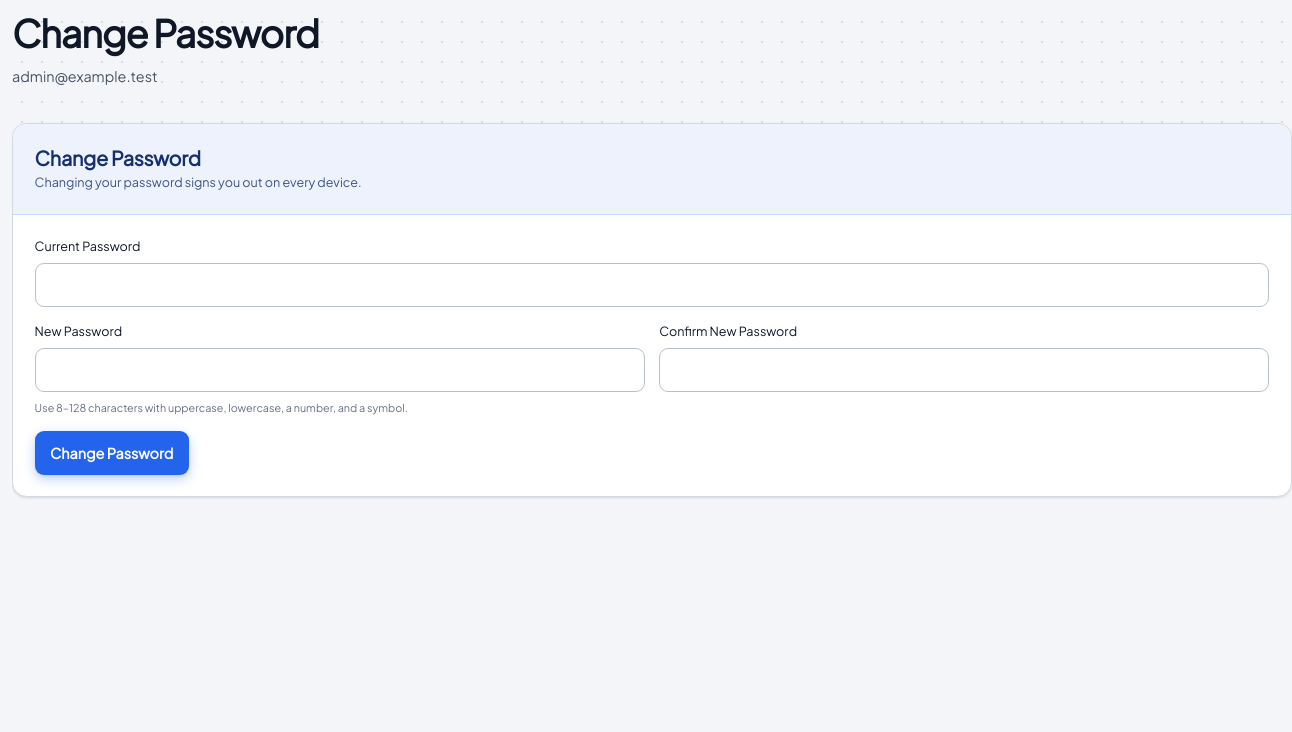
Scenario: Account password form › blocks mismatched confirmation and focuses the error
Type "old synthetic passphrase" into the password field labelled "Current Password" at (652, 285), box [35, 263, 1269, 307]
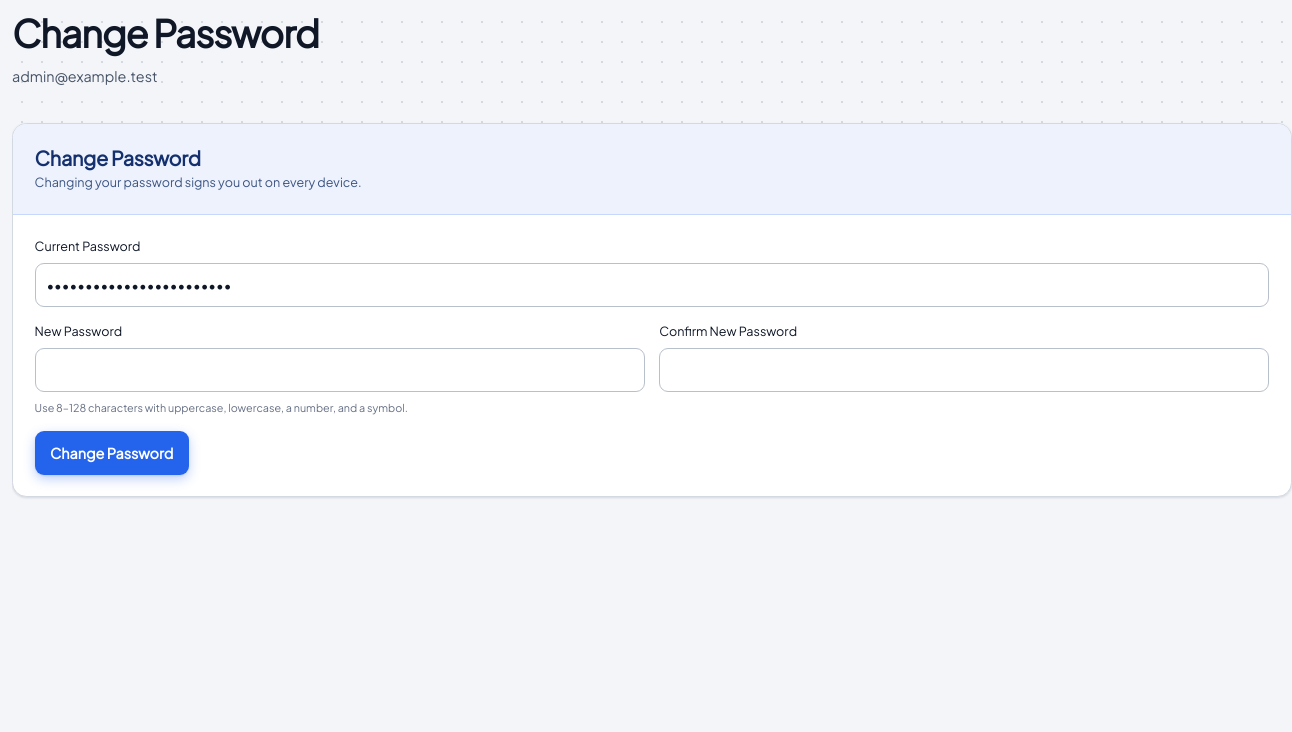
Type "NewSynthetic1!" into the password field labelled "New Password" at (340, 370), box [35, 348, 645, 392]
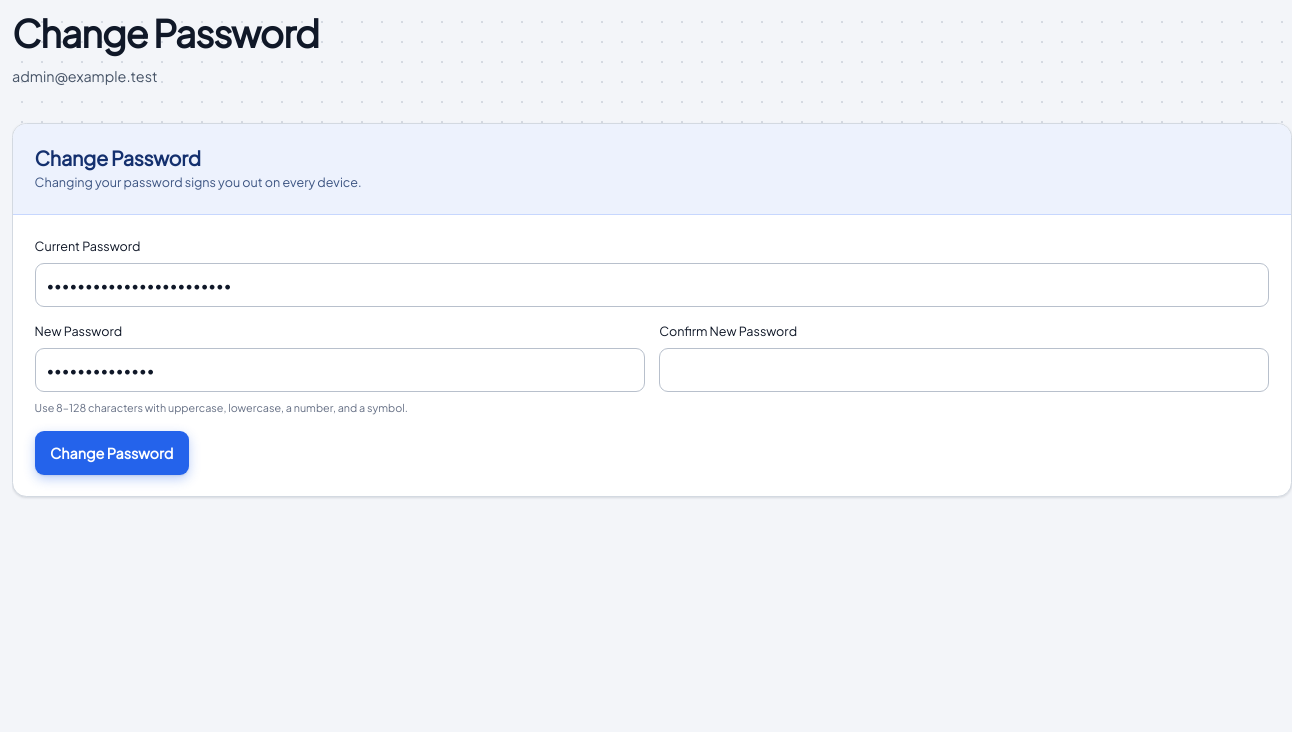
Type "different" into the password field labelled "Confirm New Password" at (964, 370), box [659, 348, 1269, 392]
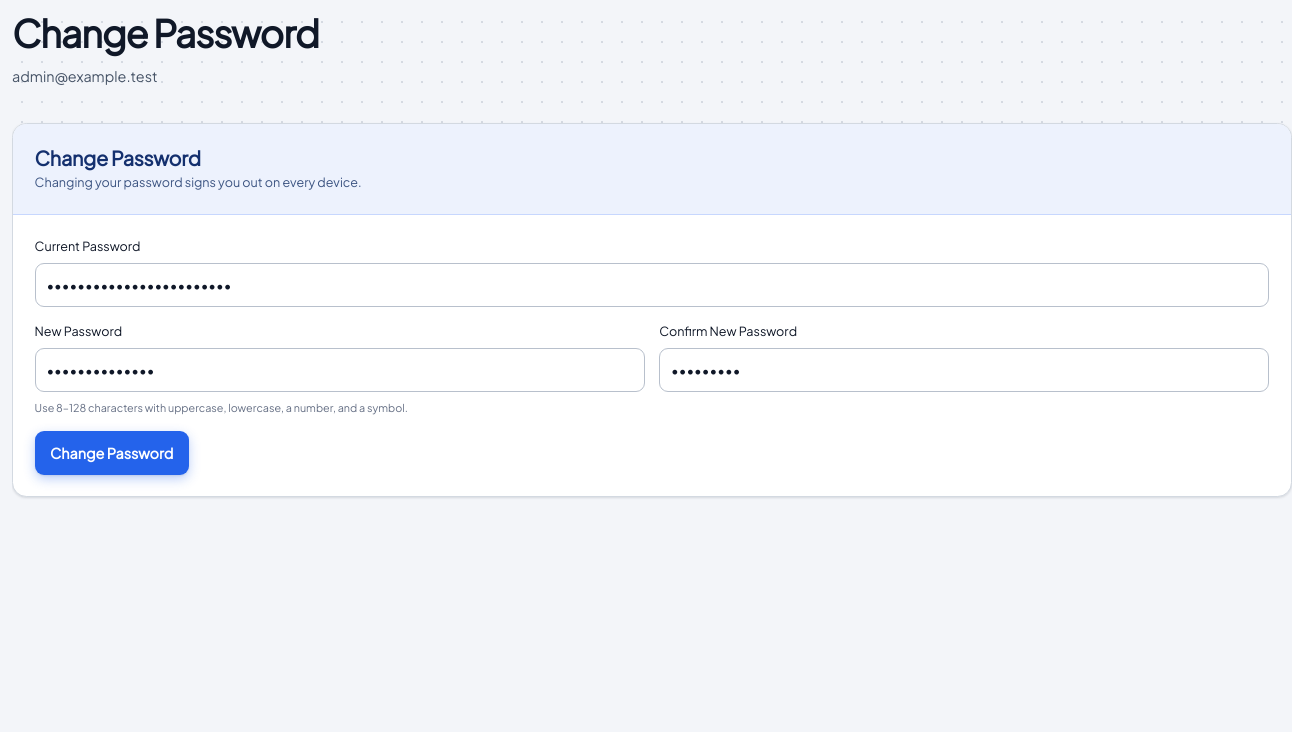
Click the button "Change Password" at (112, 453), box [35, 431, 189, 475]
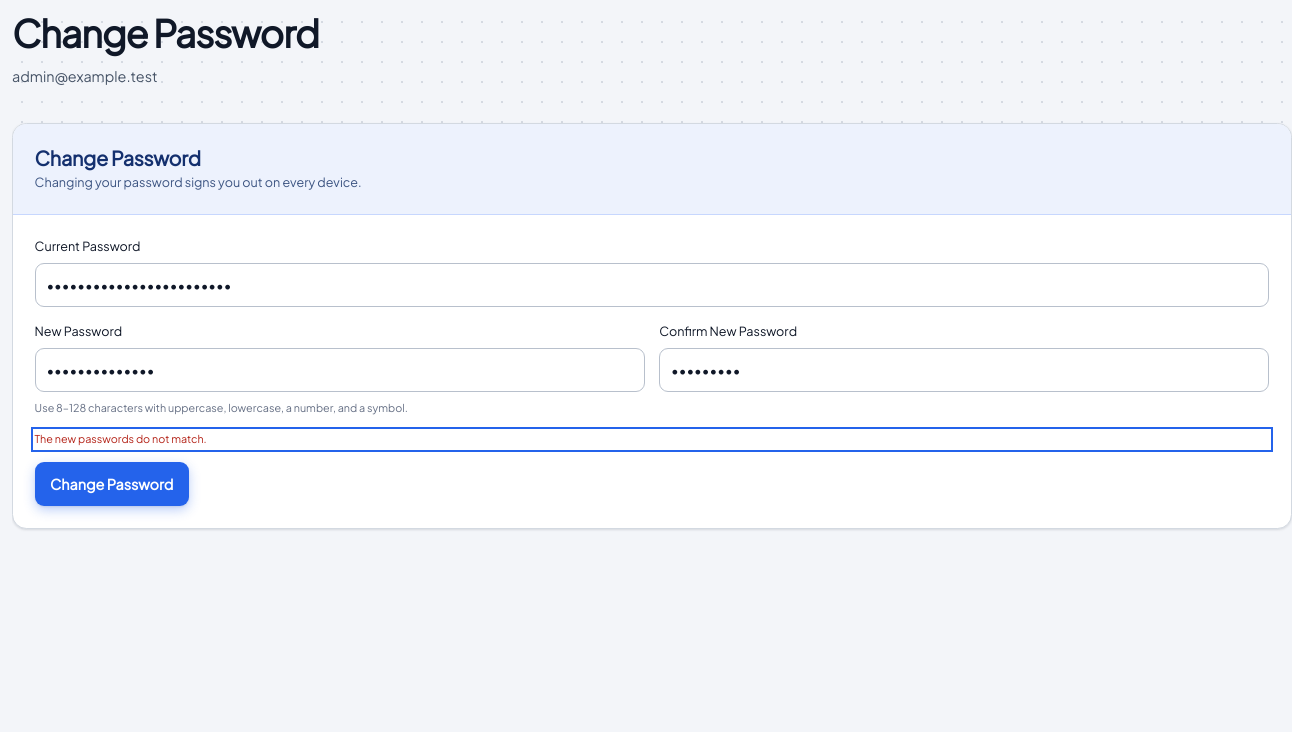
Check: the message shows "do not match", box [35, 432, 207, 445]
